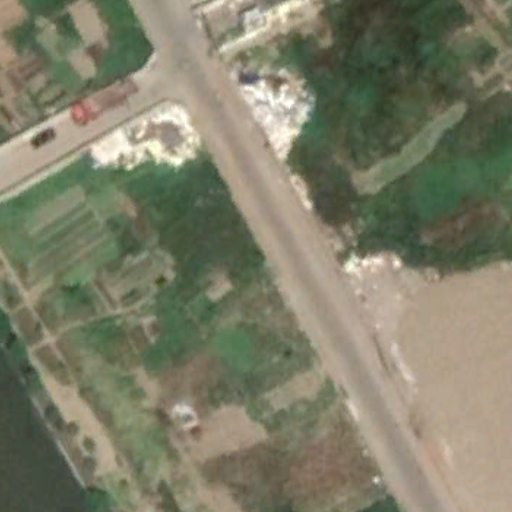msw: (231, 64, 316, 159), (91, 100, 201, 168)
